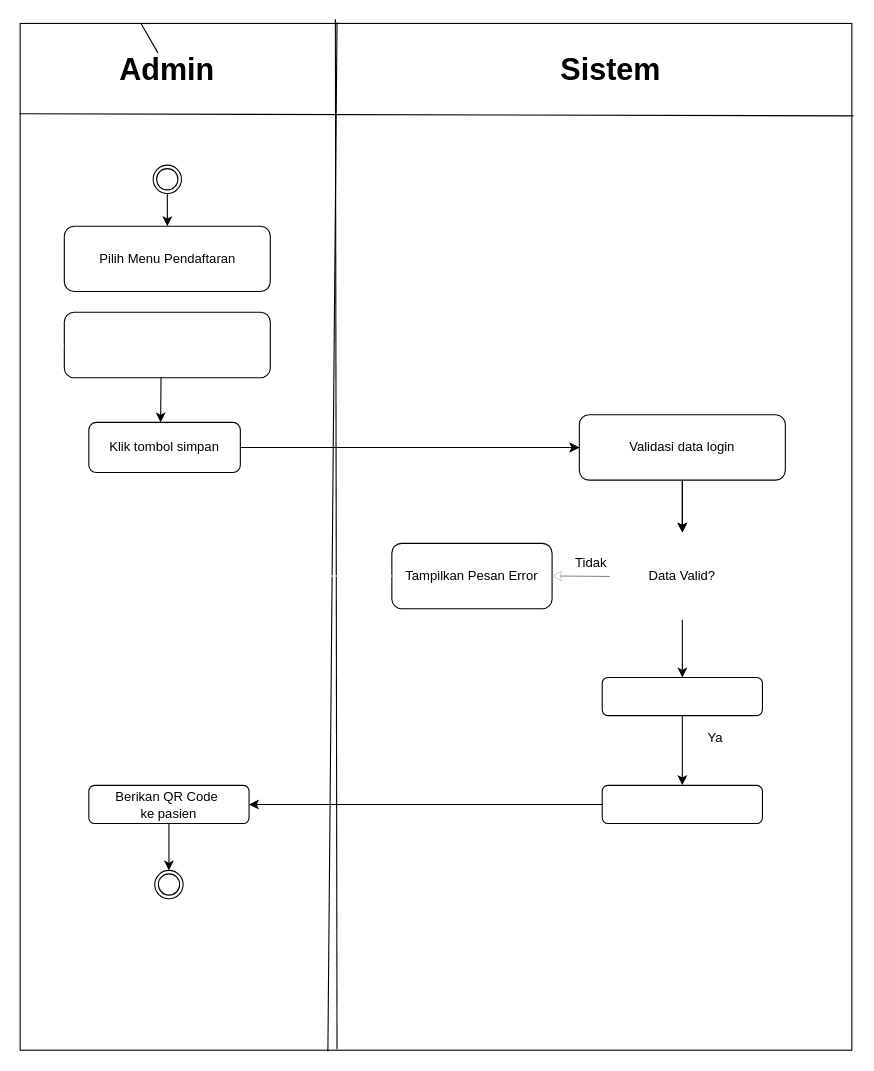
The diagram is 874 pixels wide and 1071 high, and some of its shapes have lost their labels. Each missing label, with the centre of its shape:
Mengisi Form Pasien (Nama, Usia, no.hp, keluhan, Kategori ): the point at 166,344
Simpan data pasien (status menunggu): the point at 681,696
Tampilkan QR Code tiket: the point at 681,803
